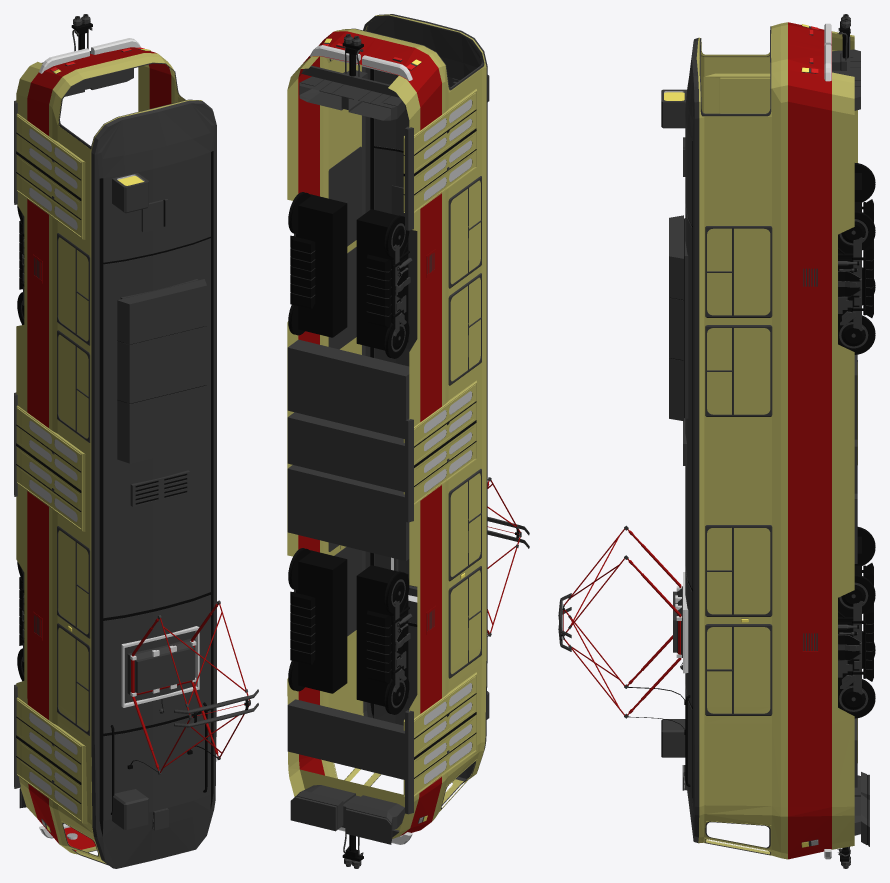
File: trolley tram.obj
3 renders of one model, left to right at view 1: azimuth 30°, elevation 25°; view 2: azimuth 150°, elevation 25°; view 3: azimuth 270°, elevation 25°, orthographic. The views are drawn at different scales.
Visible parts, largest first — view 1: Object.2, Object.20, Object.5, Object.17, Object.3, Object.21, Object.22, Object.8, Object.4, Object.19, Object.18, Object.14; view 2: Object.2, Object.20, Object.14, Object.5, Object.17, Object.22, Object.21, Object.18, Object.16, Object.3, Object.19, Object.4; view 3: Object.20, Object.5, Object.2, Object.14, Object.22, Object.16, Object.8, Object.3, Object.17, Object.4.
Part boxes in pixels (x1,y1,x2,y2): Object.2: (19,14,258,868); Object.20: (16,53,202,863); Object.5: (27,47,249,851); Object.17: (16,113,87,824); Object.3: (71,15,248,836); Object.21: (29,128,77,813); Object.22: (57,233,90,735); Object.8: (112,173,168,829); Object.4: (39,38,199,839); Object.19: (16,132,81,803); Object.18: (14,100,74,812); Object.14: (17,205,24,681); Object.2: (287,14,529,868); Object.20: (287,14,486,838); Object.14: (288,192,409,714); Object.5: (298,31,520,835); Object.17: (403,89,477,796); Object.22: (328,146,481,678); Object.21: (424,99,471,783); Object.18: (405,101,472,814); Object.16: (291,223,412,707); Object.3: (298,35,518,861); Object.19: (403,109,476,778); Object.4: (310,45,417,844); Object.20: (696,22,854,859); Object.5: (563,22,831,859); Object.2: (558,14,869,868); Object.14: (838,163,875,718); Object.22: (705,226,772,715); Object.16: (838,219,873,711); Object.8: (661,89,686,757); Object.3: (560,15,868,861); Object.17: (703,73,857,762); Object.4: (675,23,831,859).
Bounding box in the file's own units: 1590 × 9983 × 3380.
